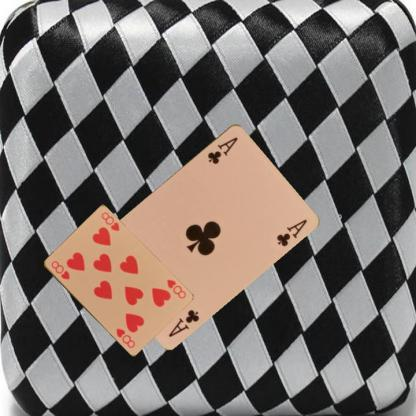8h: (164, 277, 187, 300), (48, 258, 70, 281)
Ac: (166, 306, 201, 338), (205, 134, 239, 166)
